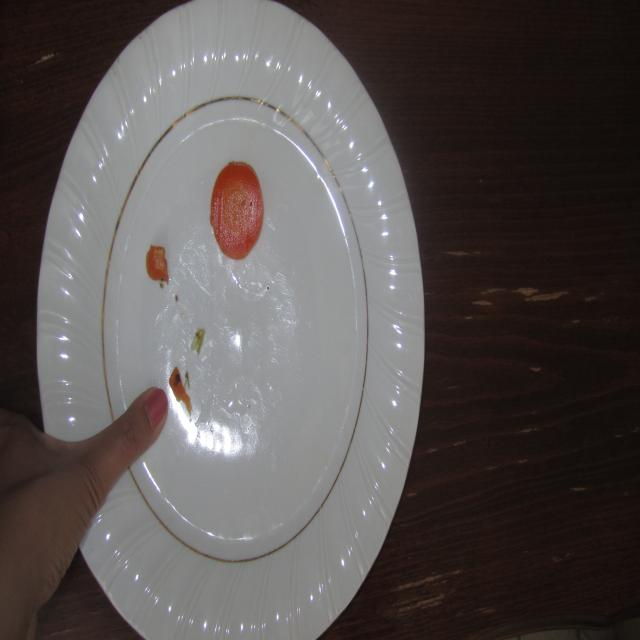carrot: (209, 158, 264, 261)
